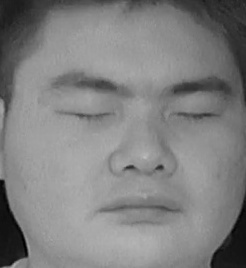blink: (62, 94, 114, 129), (171, 95, 218, 128)
mouth: (97, 184, 184, 231)
